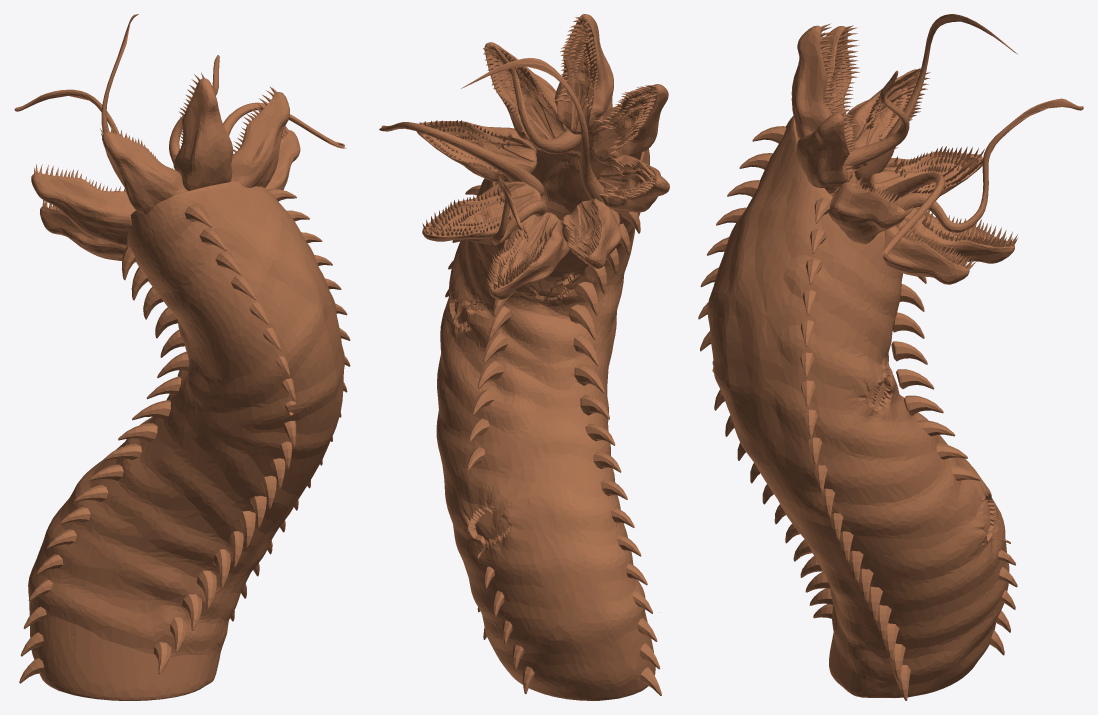
File: Worm001.fbx
3 renders of one model, left to right at view 1: azimuth 30°, elevation 25°; view 2: azimuth 150°, elevation 25°; view 3: azimuth 270°, elevation 25°, orthographic. The views are drawn at different scales.
Visible parts, largest first — view 1: sand_death_worm:Group1737; view 2: sand_death_worm:Group1737; view 3: sand_death_worm:Group1737.
Part boxes in pixels (x1,y1,x2,y2): sand_death_worm:Group1737: [14, 14, 350, 700]; sand_death_worm:Group1737: [379, 14, 669, 700]; sand_death_worm:Group1737: [698, 14, 1083, 700].
Bounding box in the file's own units: 4.71 × 9.28 × 4.89.
